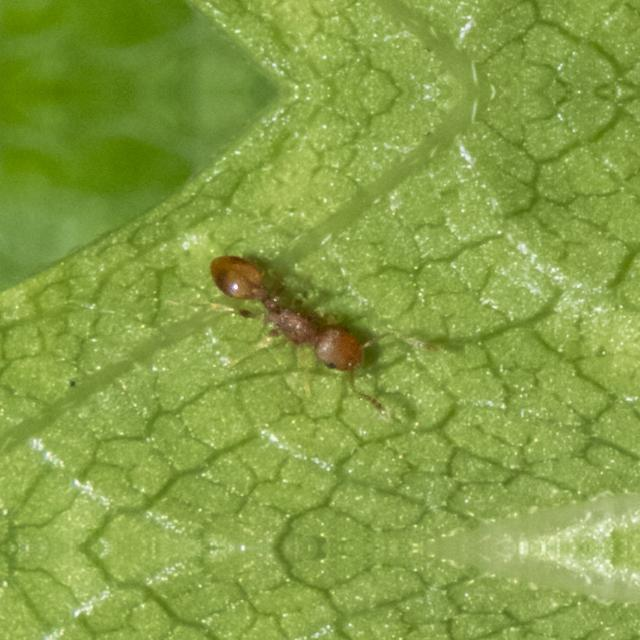Temnothorax: (202, 242, 402, 402)
